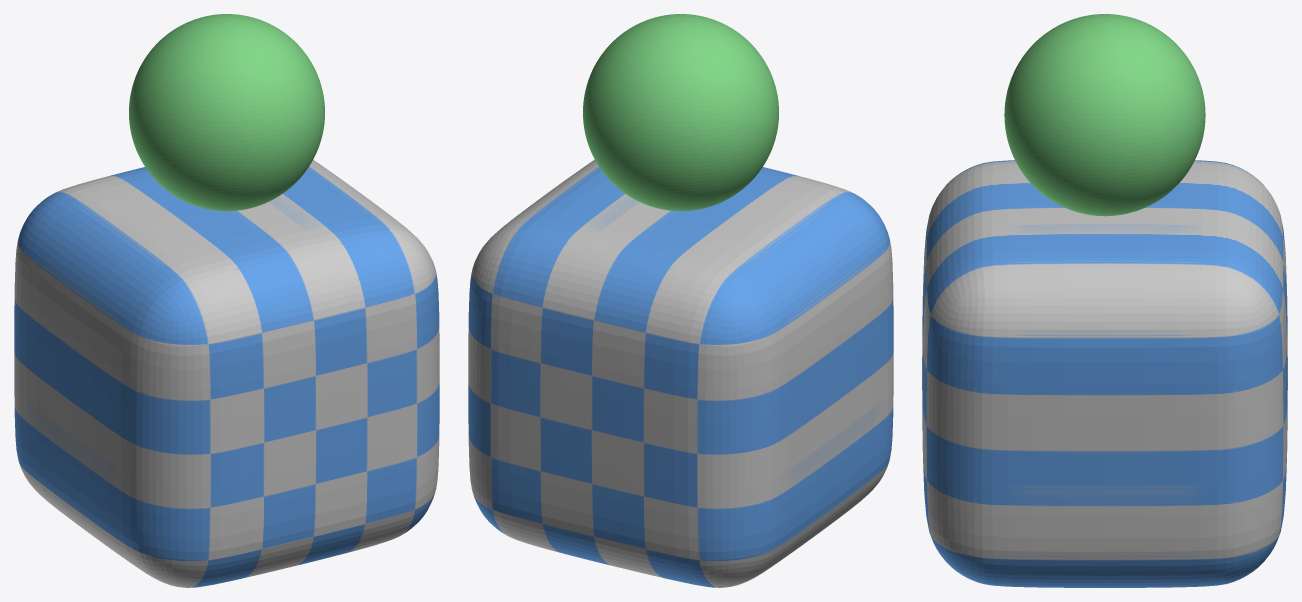
The model's file is BOD3_BMC1_BCC13_BPT4_FRC0_HEA0_HMC13_HCC0_HPT0_ELT0_ERT0_ELL0_ERL0_AP0_AAL0_AAR0_BEK0.fbx.
3 views of the same model, side by side, from view 1: azimuth 30°, elevation 25°; view 2: azimuth 150°, elevation 25°; view 3: azimuth 270°, elevation 25° (orthographic). The views are drawn at different scales.
Parts seen in each view (by area): view 1: Body, Head; view 2: Body, Head; view 3: Body, Head.
Part boxes in pixels (x1=…): Body: x1=14, y1=159, x2=439, y2=587; Head: x1=129, y1=14, x2=324, y2=211; Body: x1=468, y1=159, x2=893, y2=587; Head: x1=583, y1=14, x2=778, y2=211; Body: x1=922, y1=160, x2=1287, y2=587; Head: x1=1004, y1=14, x2=1205, y2=216.
Size of the model in its own units: 89.79 by 140 by 89.79.
Materials: 2 (2 with a texture image).
